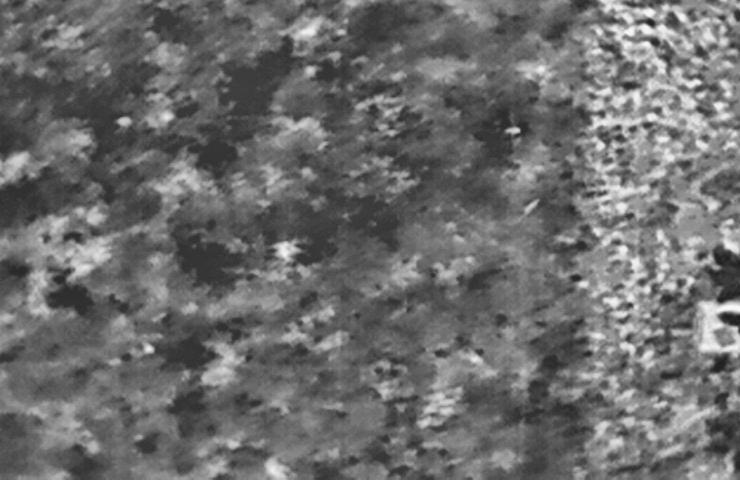landmines: (273, 238, 304, 264)
